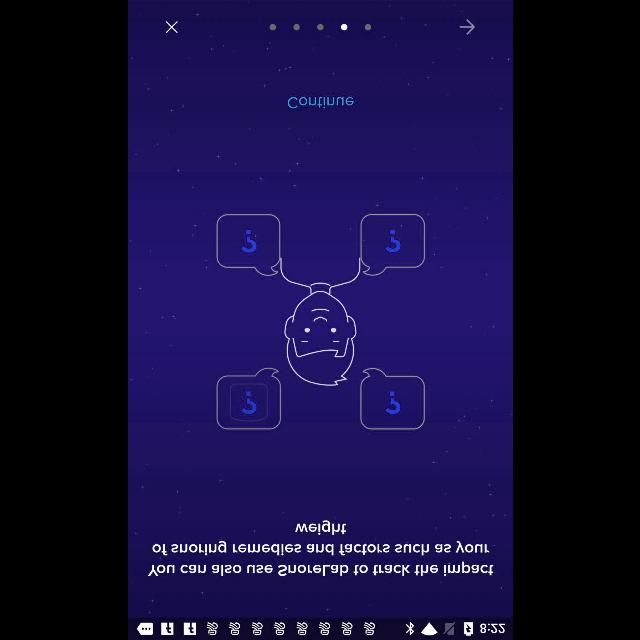icon: (458, 19, 474, 35), (165, 21, 178, 33)
image: (215, 212, 427, 430)
pageindicator: (268, 23, 372, 31)
text: (147, 520, 493, 576), (286, 96, 354, 108)
uppertaskbar: (128, 617, 512, 639)
